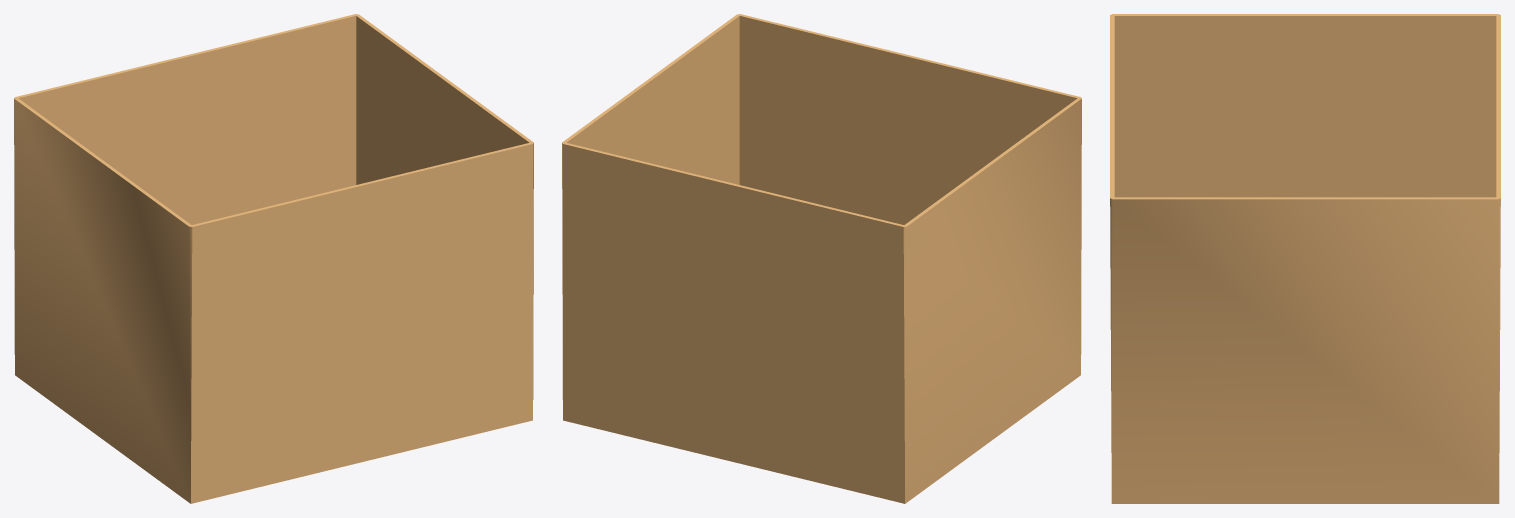
File: cardboard-box_03.fbx
3 renders of one model, left to right at view 1: azimuth 30°, elevation 25°; view 2: azimuth 150°, elevation 25°; view 3: azimuth 270°, elevation 25°, orthographic. The views are drawn at different scales.
Parts seen in each view (by area): view 1: cardboard-box_03; view 2: cardboard-box_03; view 3: cardboard-box_03.
Boxes of the visible parts, x1=… form: cardboard-box_03: x1=14, y1=14, x2=533, y2=503; cardboard-box_03: x1=562, y1=14, x2=1081, y2=503; cardboard-box_03: x1=1110, y1=14, x2=1500, y2=503.
Bounding box in the file's own units: 60.33 × 46.36 × 53.76.
1 material, 1 textured.
